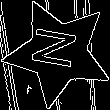N_E: (30, 28, 87, 77)
